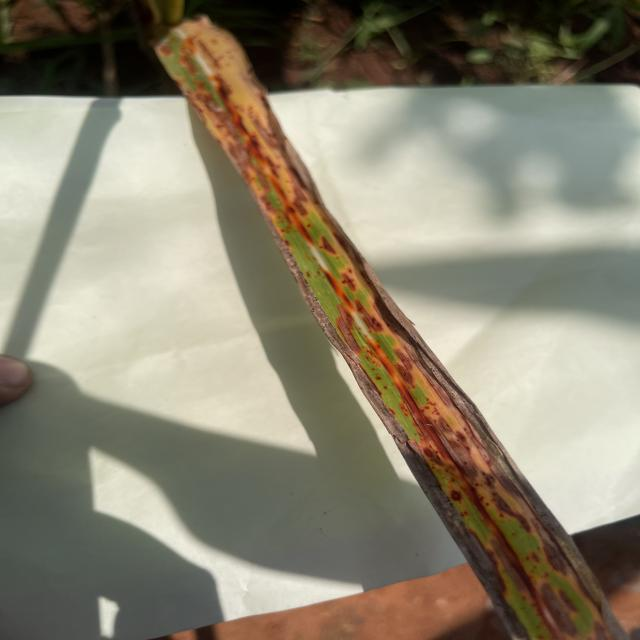millet_rust: (154, 16, 628, 640)
